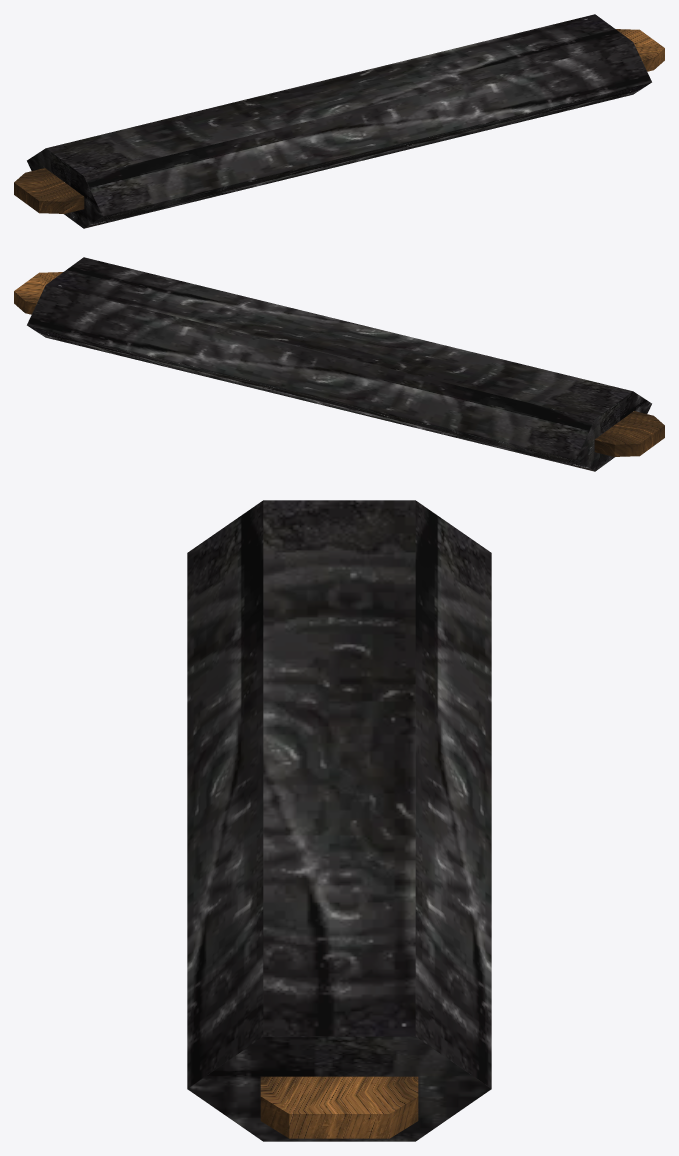
Rendered from TKANINA_WELNA.glb.
The picture shows the model from 3 angles, top to bottom: view 1: azimuth 30°, elevation 25°; view 2: azimuth 150°, elevation 25°; view 3: azimuth 270°, elevation 25°; orthographic projection. The views are drawn at different scales.
Parts seen in each view (by area): view 1: TKANINA_WELNA; view 2: TKANINA_WELNA; view 3: TKANINA_WELNA.
Boxes of the visible parts, x1,y1,x2,y2 form: TKANINA_WELNA: (14, 14, 664, 228); TKANINA_WELNA: (14, 257, 664, 471); TKANINA_WELNA: (187, 500, 491, 1141).
Size of the model in its own units: 0.6956 by 0.0559 by 0.1464.
2 materials, 2 textured.
